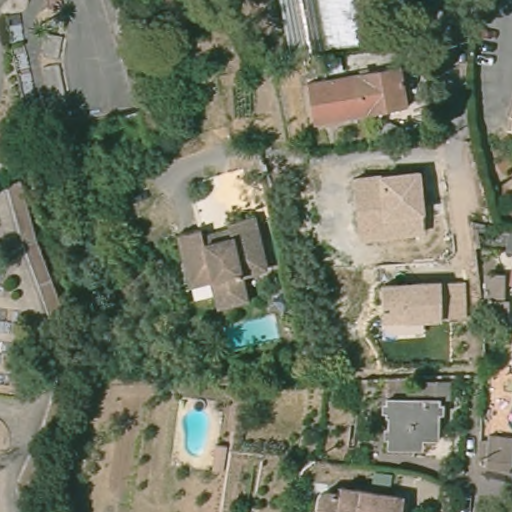pool: (221, 314, 283, 350), (178, 405, 218, 458)
